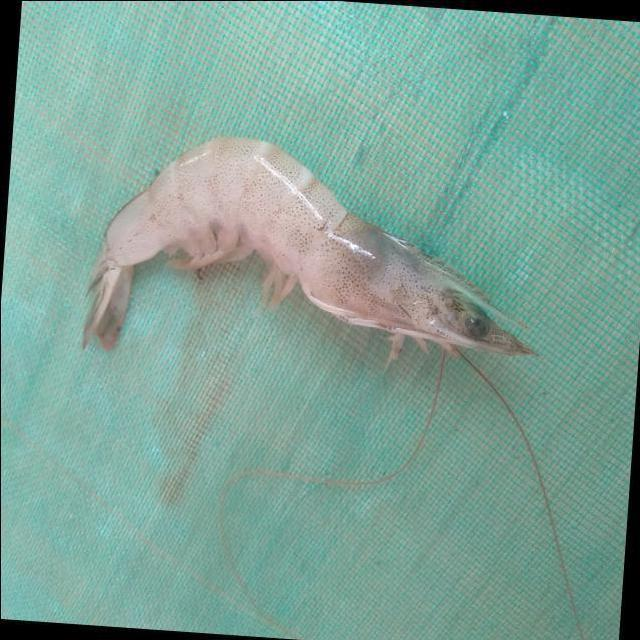shrimp: (81, 136, 535, 358)
